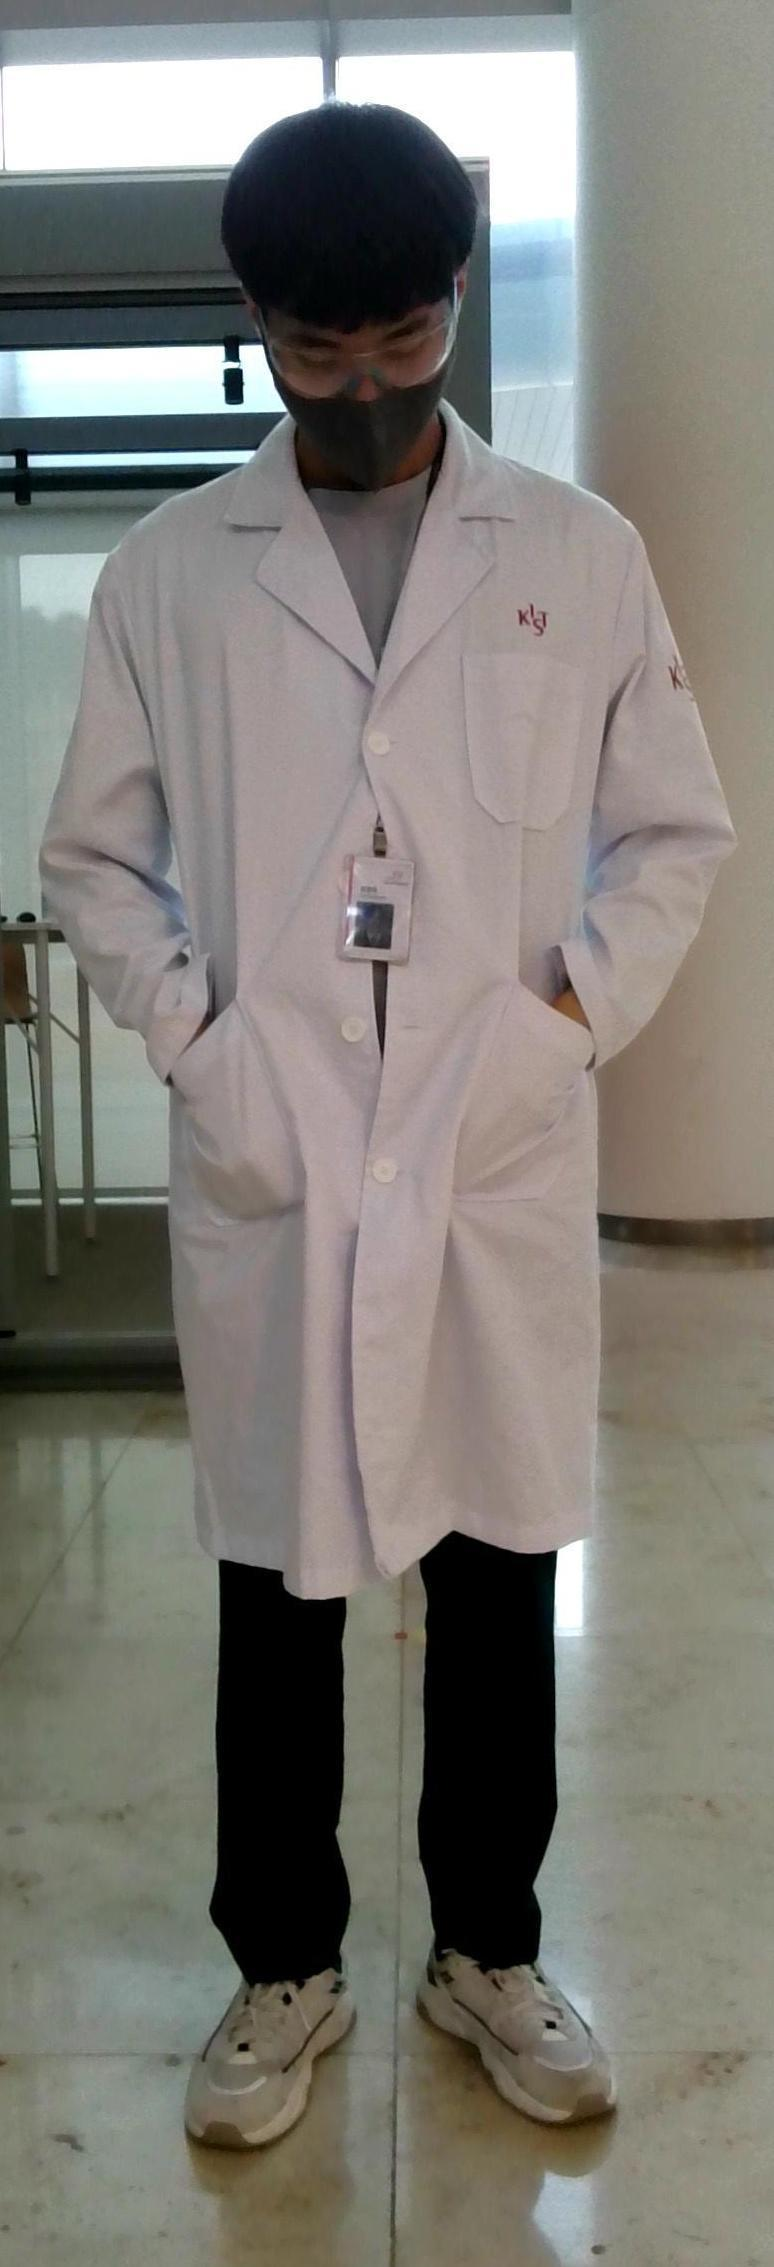lab_coat: (61, 492, 747, 1606)
